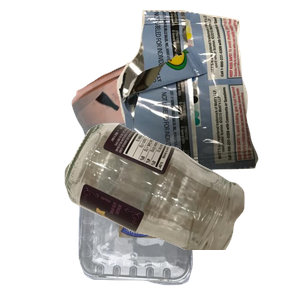glass: (62, 120, 300, 300)
metal: (69, 58, 300, 238)
plastic: (76, 162, 264, 300)
trash: (114, 10, 300, 180)
